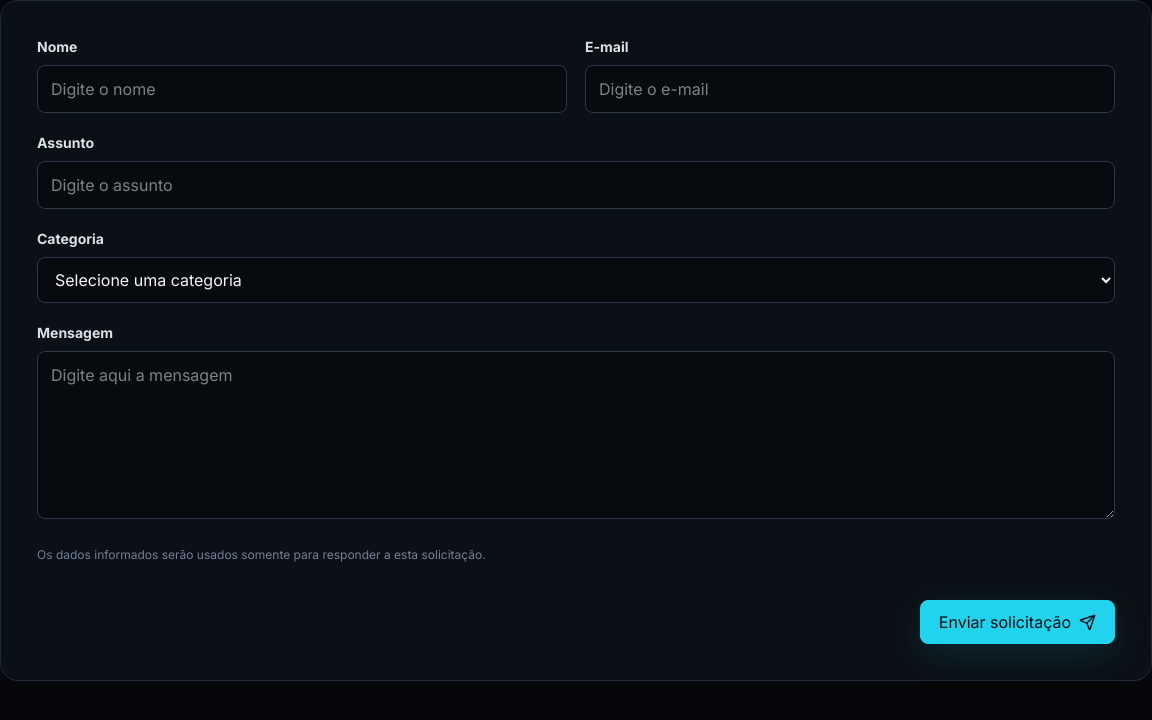
Test: SupportForm › associa erros retornados pelo servidor aos campos
Type "Marcos Silva" into the field labelled "Nome" at (302,89), box 37,65 -> 567,113
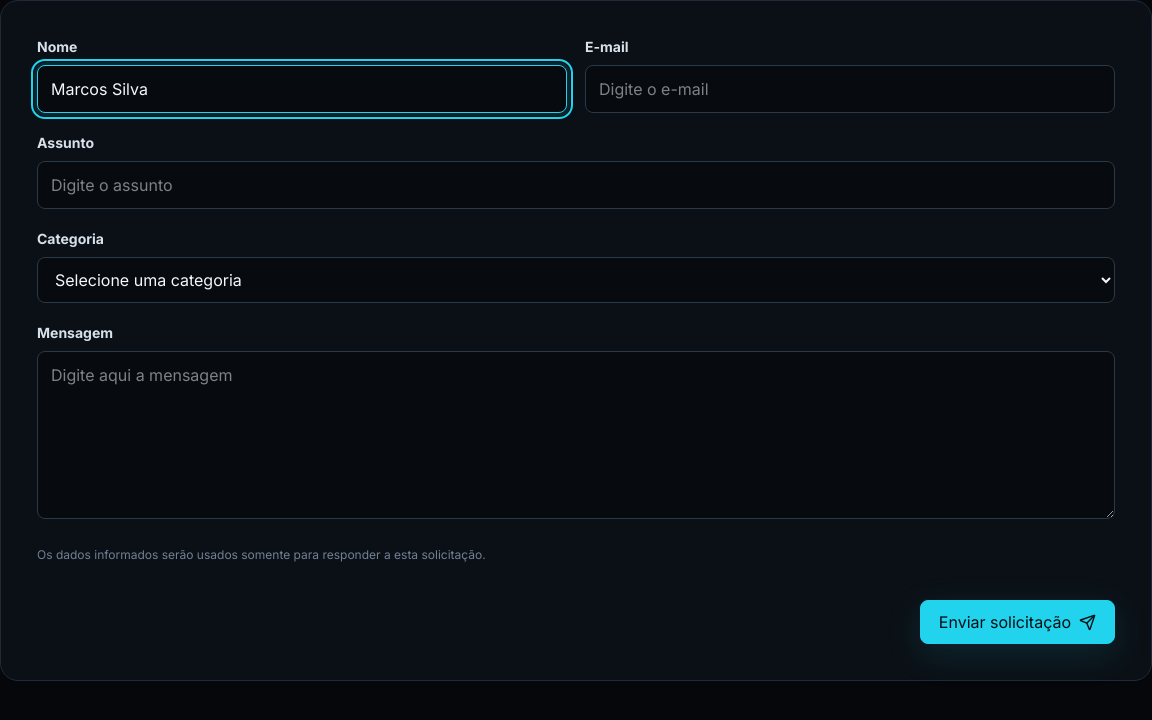
Type "marcos@example.com" into the field labelled "E-mail" at (850,89), box 585,65 -> 1115,113
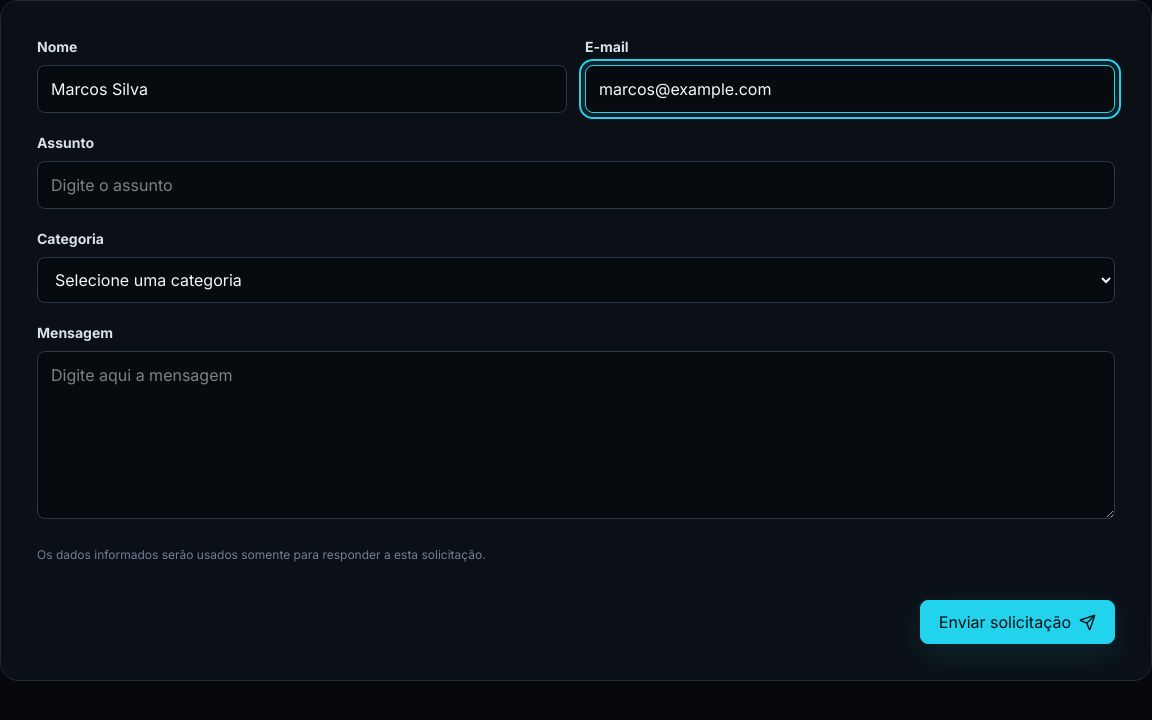
Type "Dúvida sobre a extensão" into the field labelled "Assunto" at (576,185), box 37,161 -> 1115,209
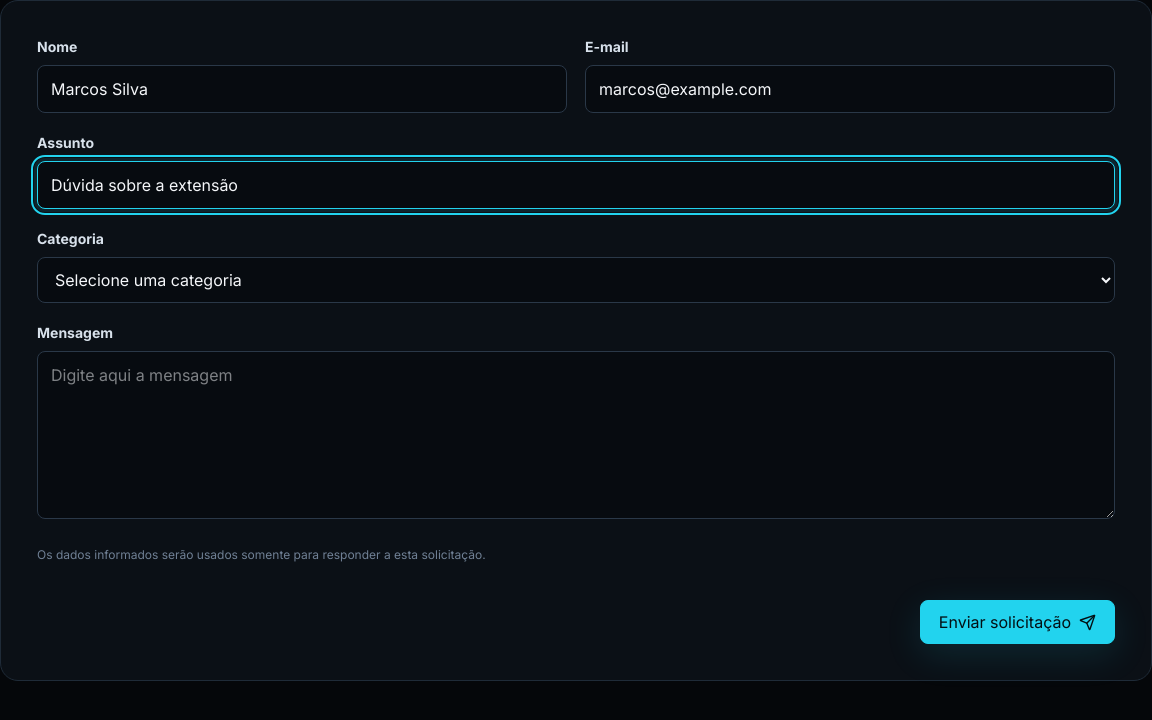
Select "Dúvida" in the dropdown labelled "Categoria" at (576,280), box 37,257 -> 1115,303
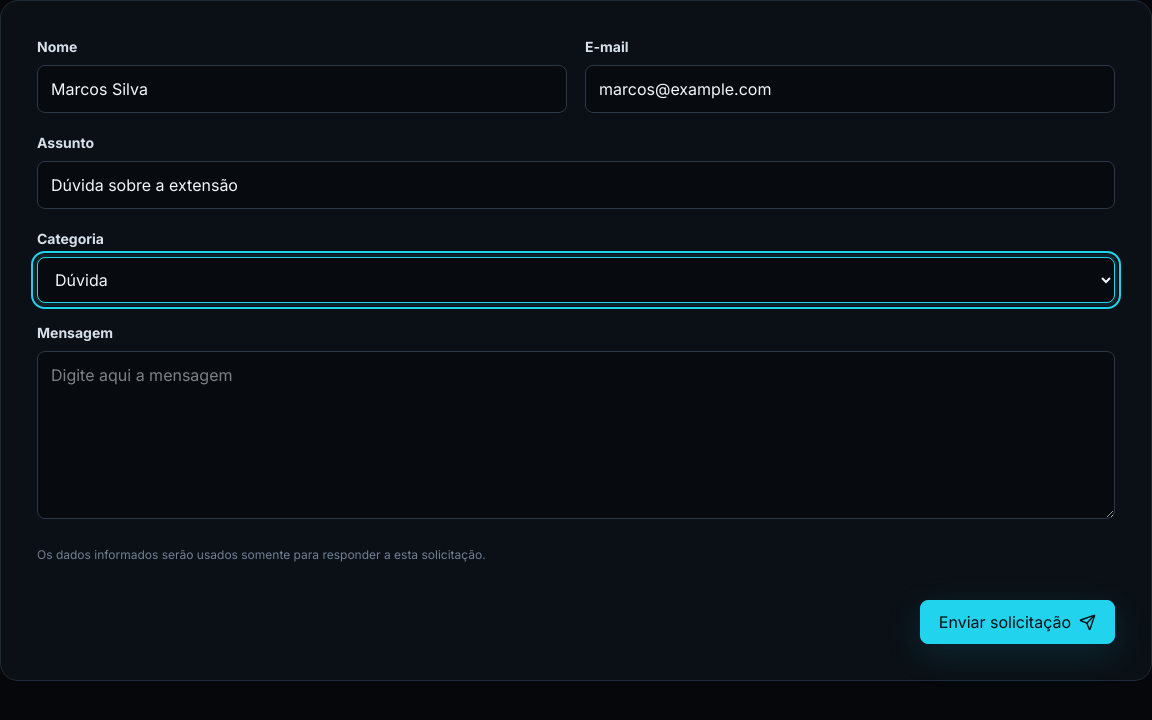
Type "Preciso de ajuda para configurar a extensão no Chrome." into the text box labelled "Mensagem" at (576,435), box 37,351 -> 1115,519
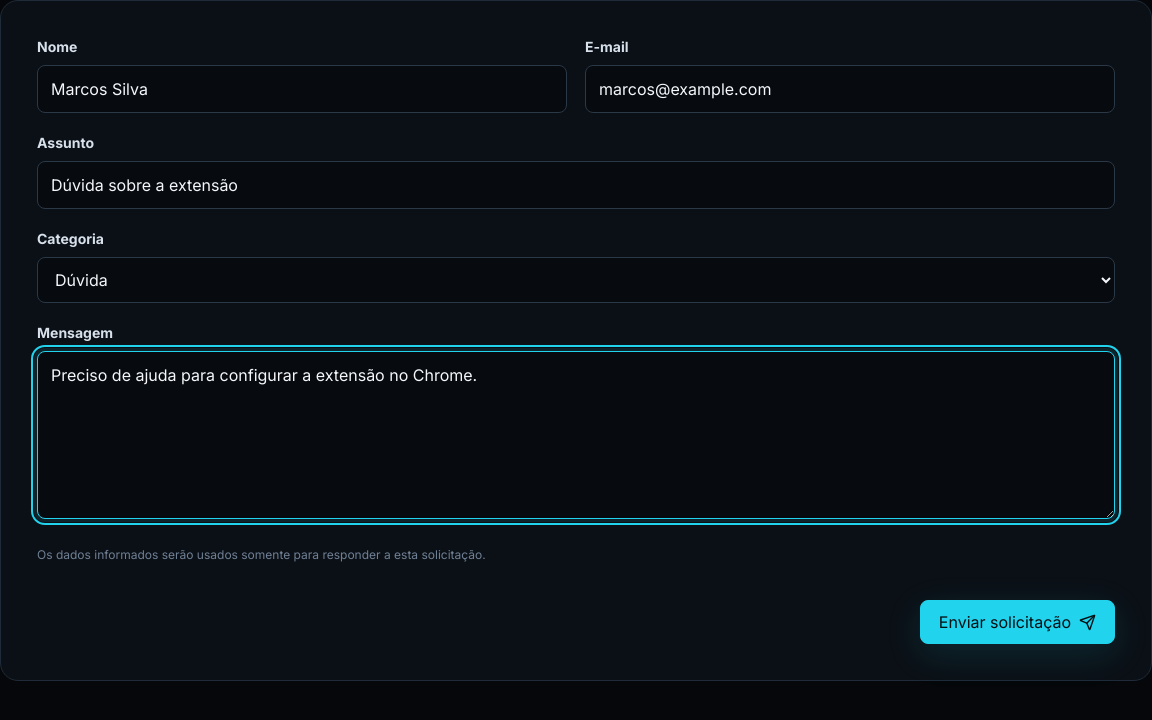
Click the button "Enviar solicitação" at (1017,622), box 920,600 -> 1115,644
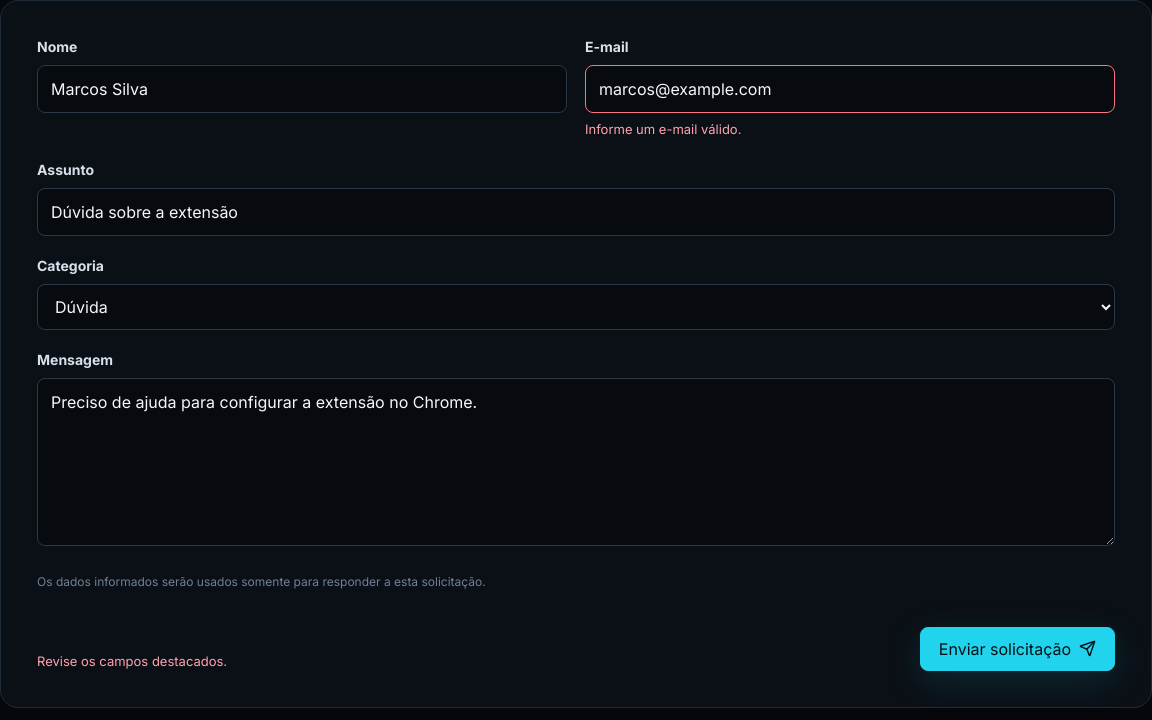
Expected: the text "Informe um e-mail válido." is shown, 585,121 -> 741,137
